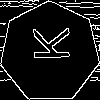K: (24, 27, 70, 62)
